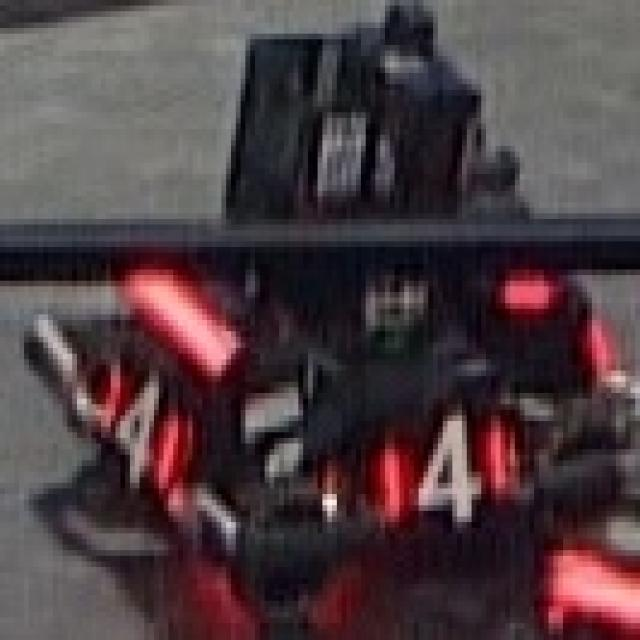R4: (375, 404, 515, 528), (101, 348, 188, 500)
